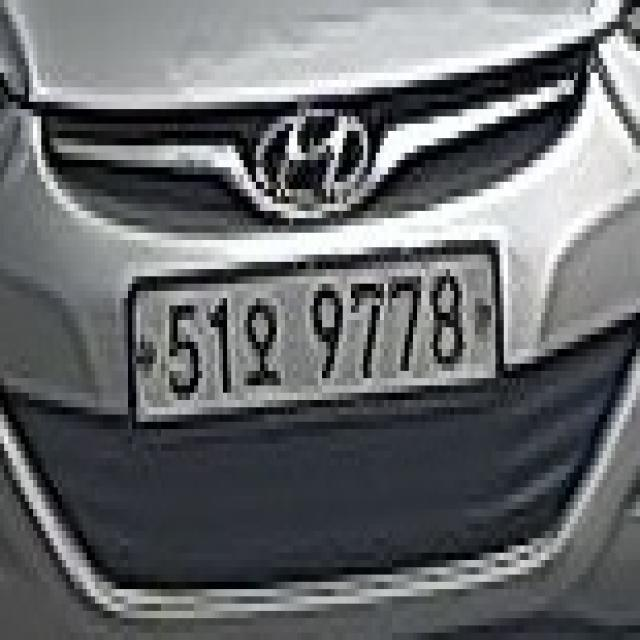1: (206, 294, 238, 402)
5: (162, 293, 202, 410)
7: (349, 273, 387, 392), (390, 270, 423, 380)
8: (426, 270, 472, 384)
9: (308, 273, 346, 397)
license_plate: (117, 213, 518, 482)
o: (242, 291, 286, 408)
